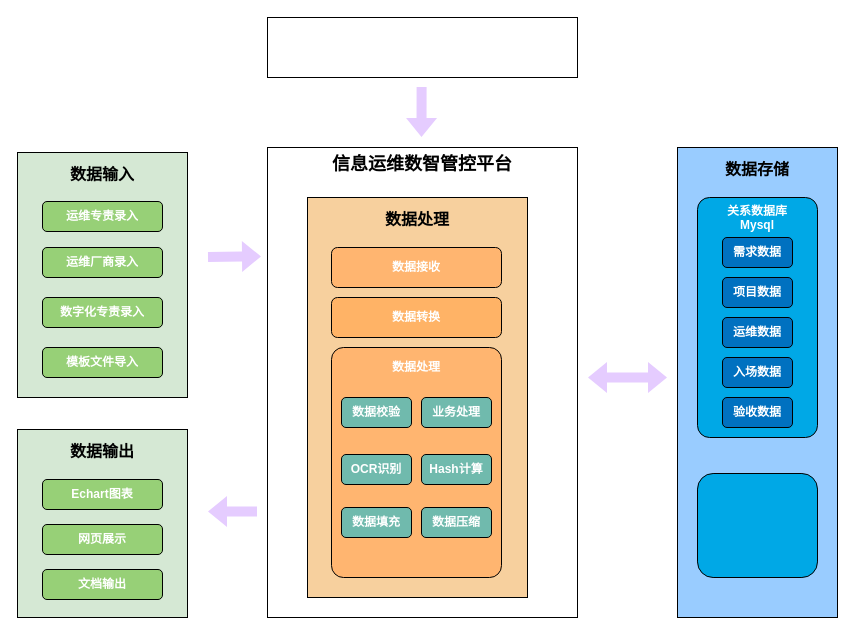
Image size: 855x635. Some labels were removed from this diagram. Here are the shapes that lost their labels. From the top down, the centre of each, then its label:
At pixel 422 47: "统一权限管理平台（ISC）".
At pixel 757 525: "非关系数据库 Redis".
